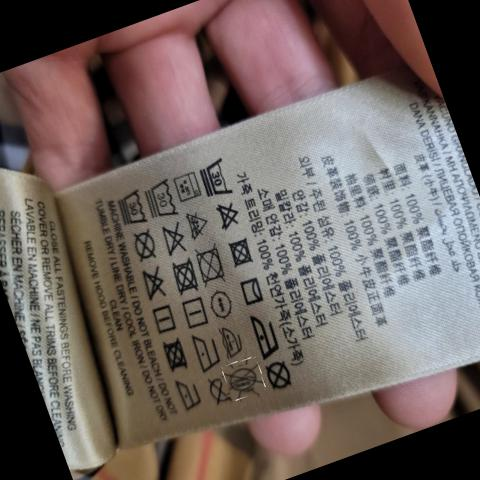30C: (147, 173, 183, 223), (201, 156, 238, 202), (121, 185, 151, 226), (178, 171, 198, 208)
DN_bleach: (214, 200, 248, 229), (162, 223, 185, 261), (145, 268, 169, 298), (186, 208, 208, 240)
DN_dry_clean: (133, 225, 161, 266), (229, 365, 261, 399), (264, 361, 296, 393), (208, 375, 235, 409)
DN_tumble_dry: (198, 242, 227, 288), (173, 256, 198, 297), (162, 333, 186, 374), (228, 238, 256, 268)
iron_low: (250, 314, 281, 359), (172, 376, 204, 416), (196, 332, 226, 372), (219, 326, 248, 362)
line_dry: (209, 290, 238, 321), (240, 275, 264, 308)
